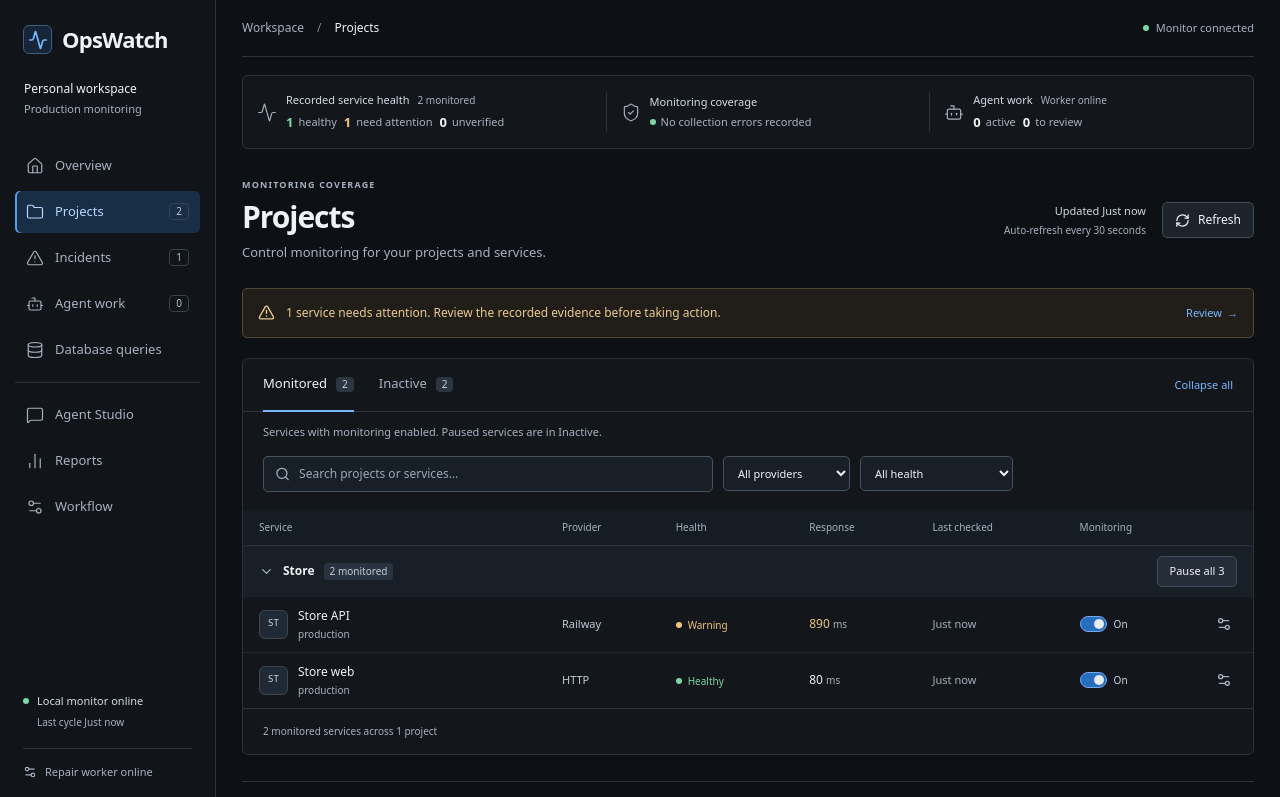
Test: React dashboard routing and freshness › navigates between real React monitoring pages from the app sidebar
Expected: the heading "Projects" is shown, [242,196,354,236]
Expected: the button with aria-label "Configure Store API" is shown, [259,607,350,642]
Click the link "Database queries".
click(94, 349)  # box [26,340,162,359]
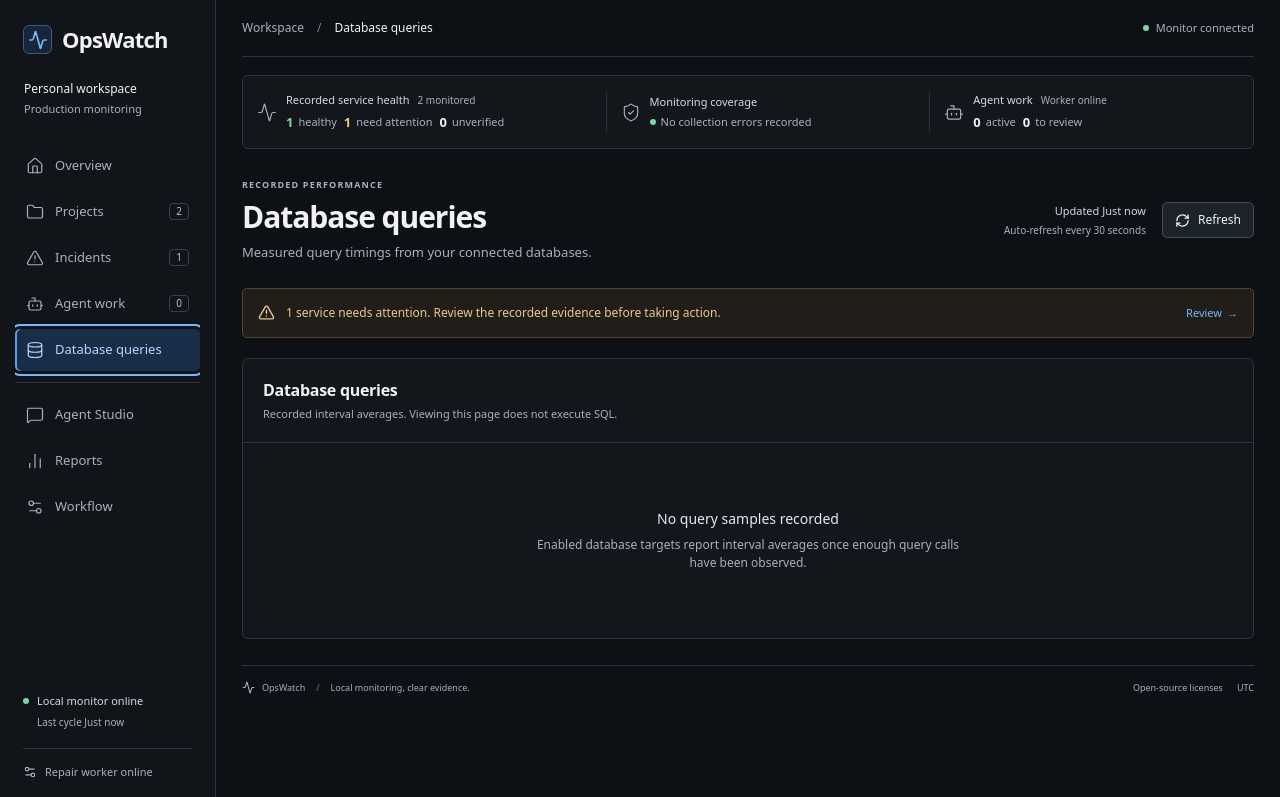
Now the heading "Database queries" below "RECORDED PERFORMANCE" is shown, box [242,196,486,236]
Now the text "No query samples recorded" is shown, box [657,508,839,529]
